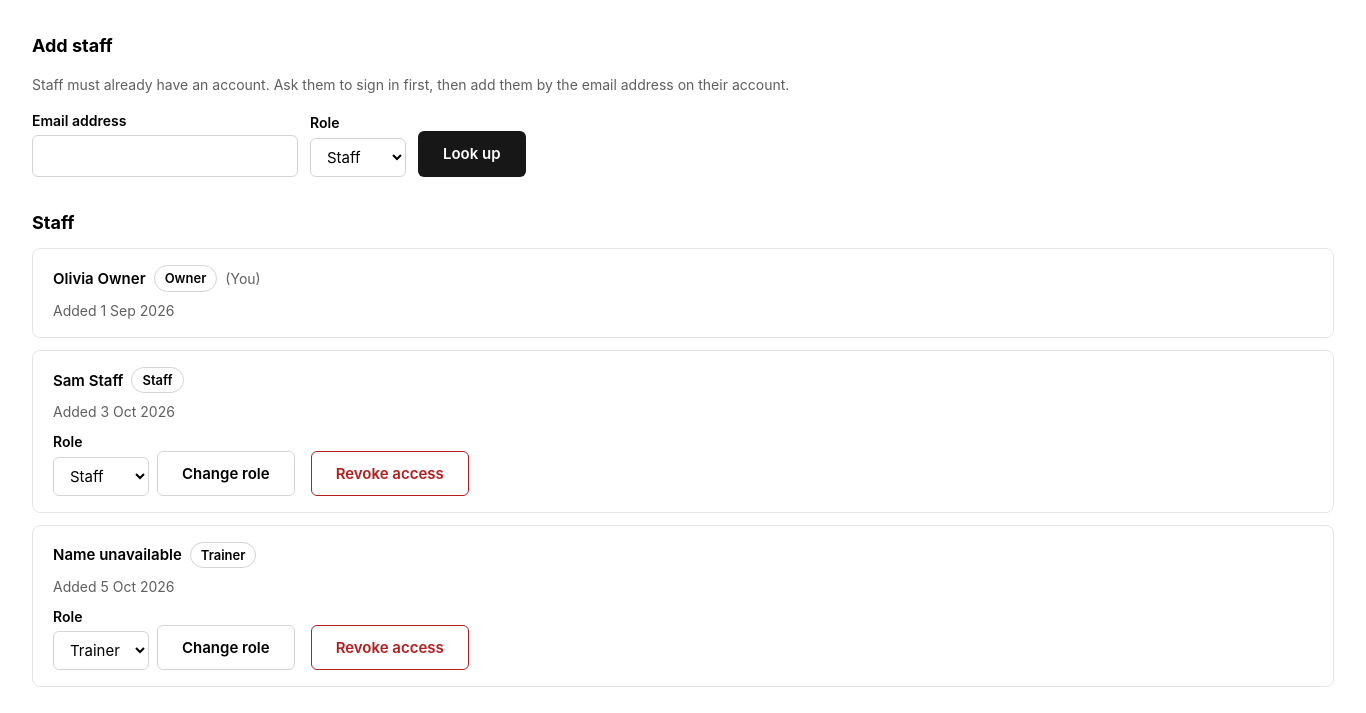
Test case: StaffManager as OWNER › looks up a candidate, shows the public fields, and adds by email
In the field with id "staff-email": point(165, 156) x1=32 y1=135 x2=298 y2=177, type "found@example.com"
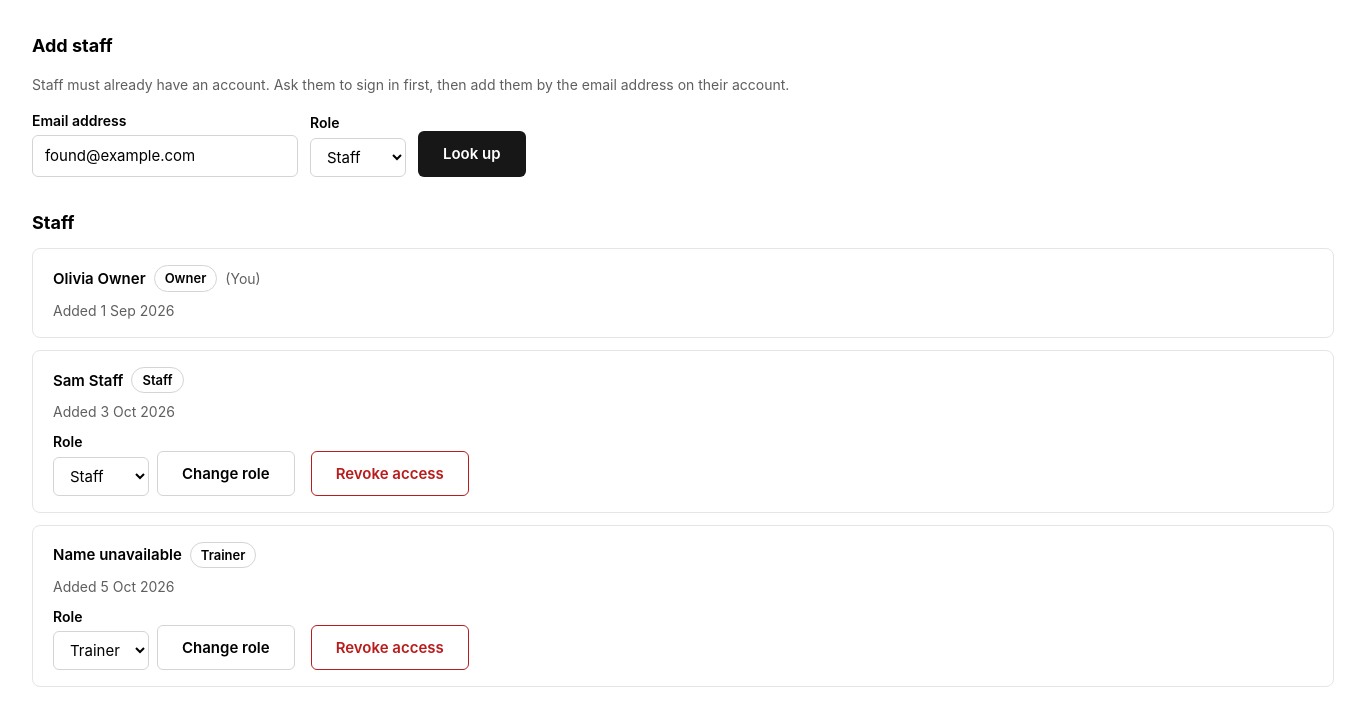
Submit the form with id "staff-email", box x1=32 y1=112 x2=526 y2=176
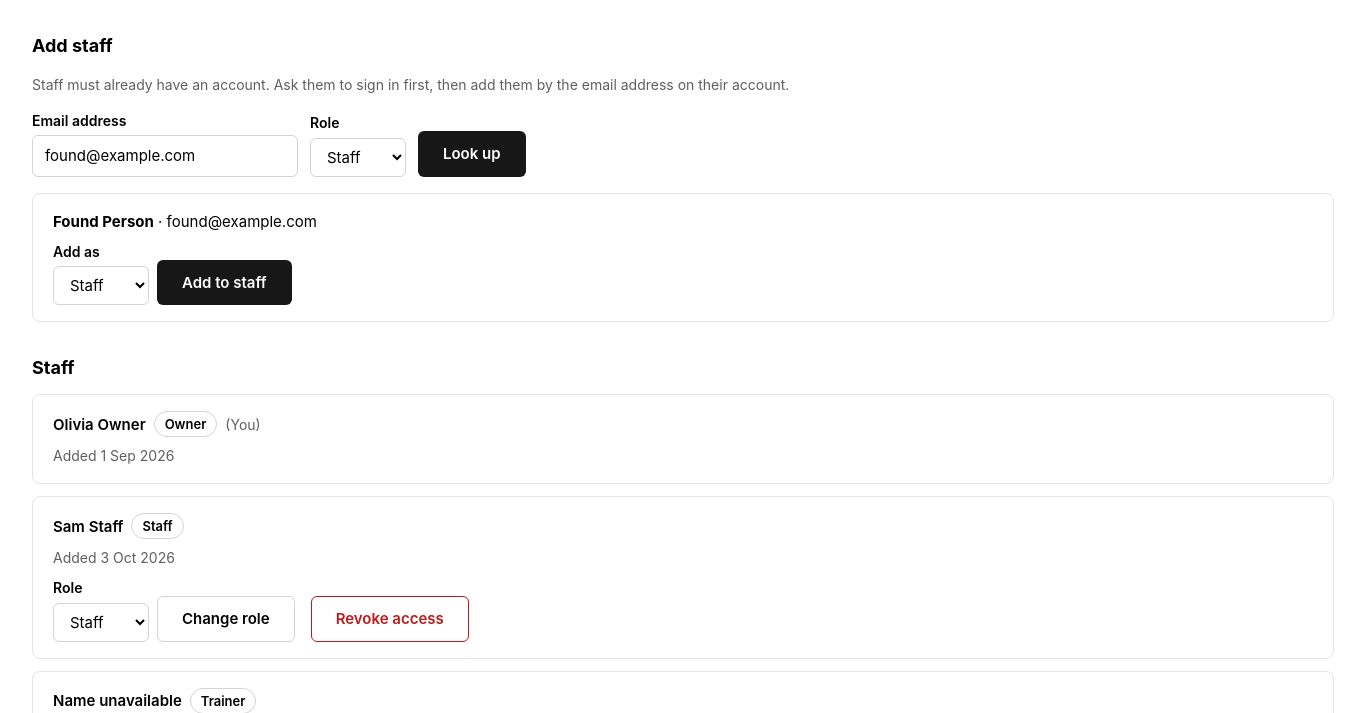
Now the text "Found Person" is shown, box x1=53 y1=212 x2=154 y2=230
Now the text "found@example.com" is shown, box x1=167 y1=212 x2=317 y2=230
Submit the form "Add as Add to staff", box x1=53 y1=243 x2=292 y2=306
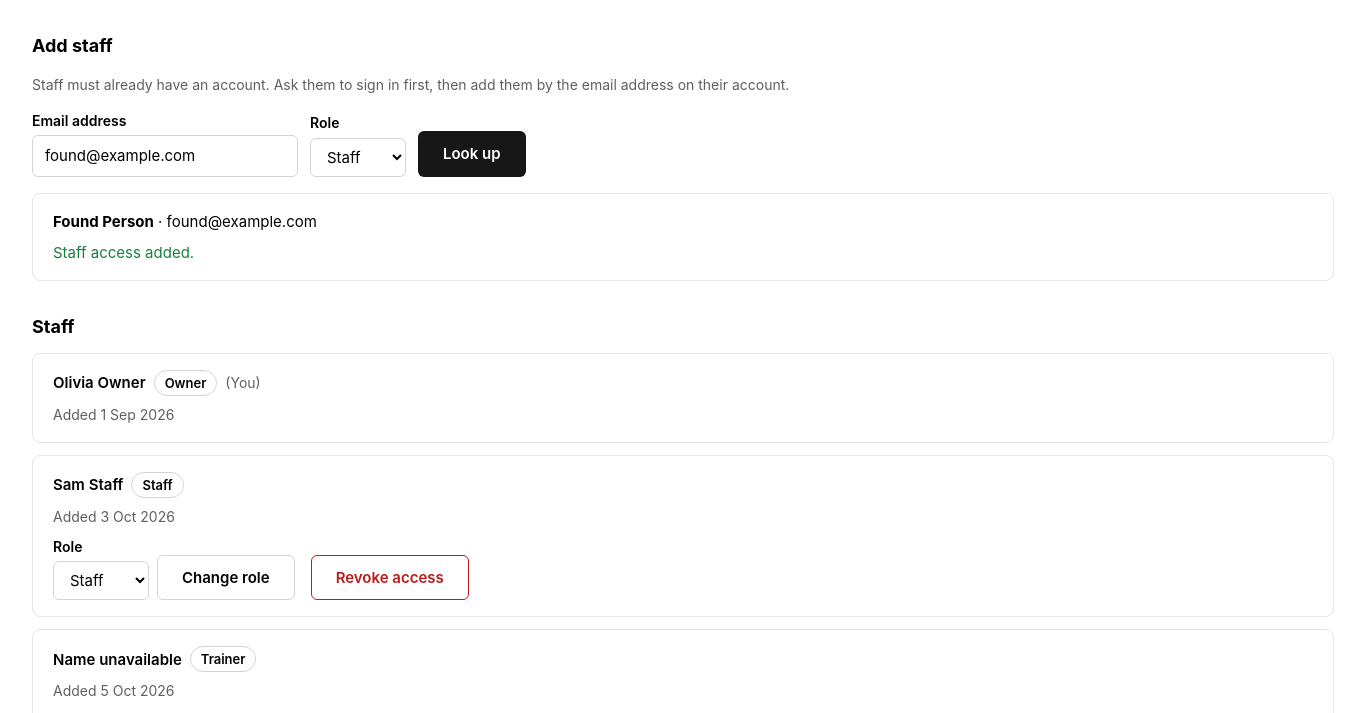
Now the text "Staff access added." is shown, box x1=53 y1=243 x2=194 y2=262
